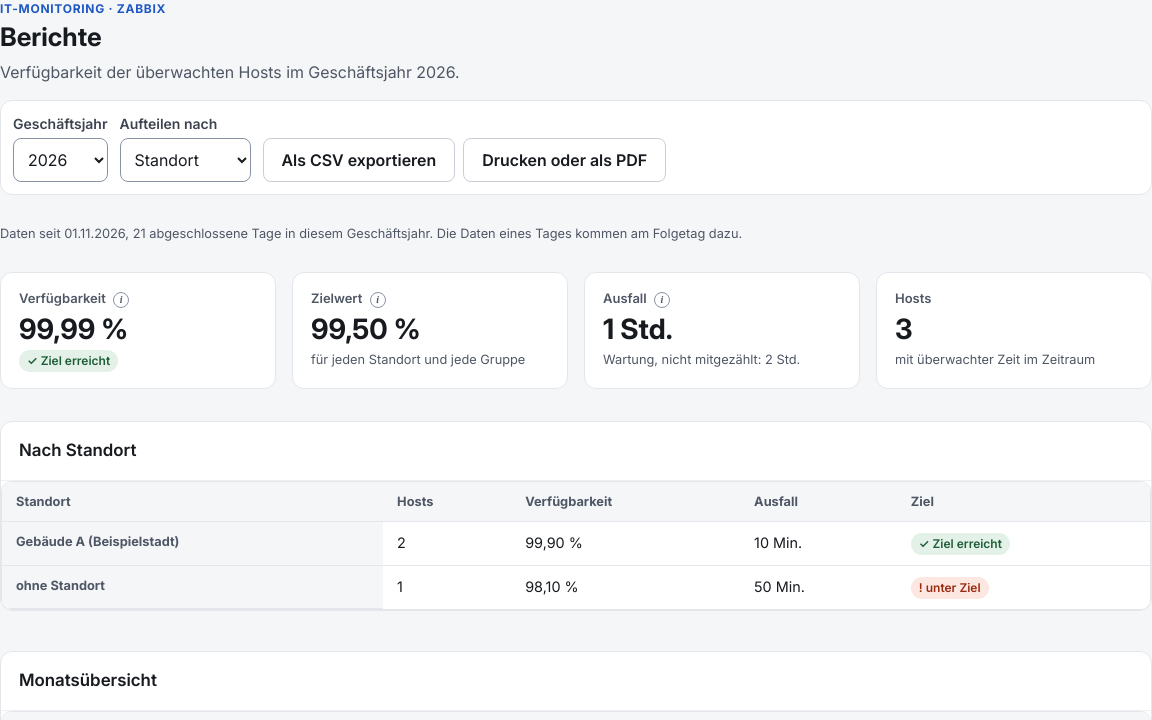
Test case: ZabbixReportsPage › zeigt Verfügbarkeit, Zielwert, Tabellen und lädt bei anderer Aufteilung neu
Expected: the text "99,99 %" is shown, [19,312,128,346]
Expected: the text "Ziel erreicht" below "99,99 %" is shown, [41,353,110,368]
Select "Hostgruppe" in the dropdown labelled "Aufteilen nach" at x=185, y=160, box [120,138,250,182]
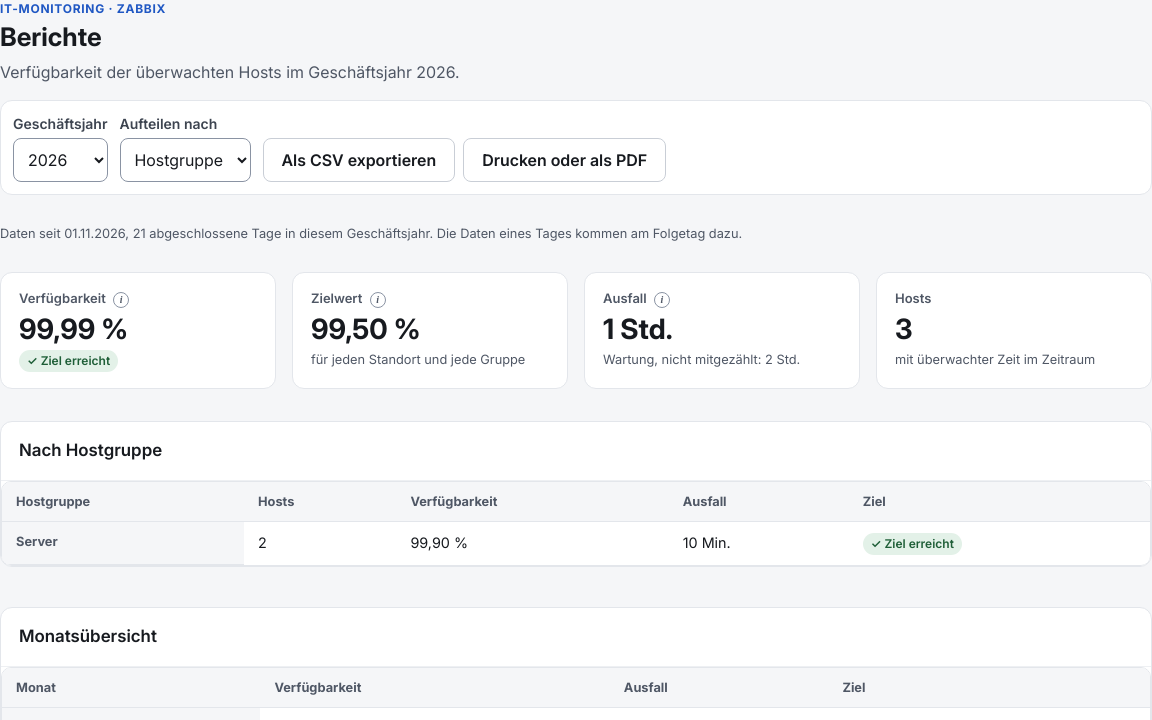
Expected: the column heading "Server" is shown, [2,522,244,565]
